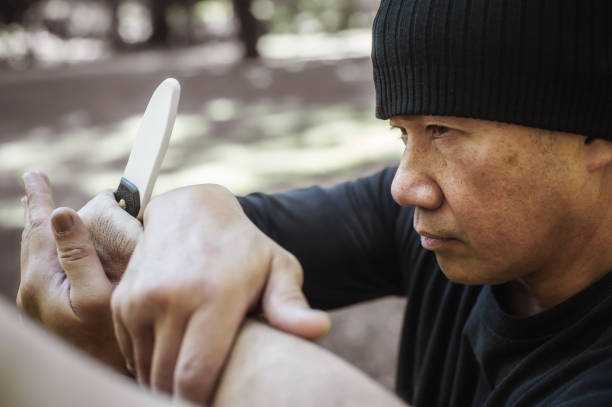knife: (113, 77, 183, 218)
